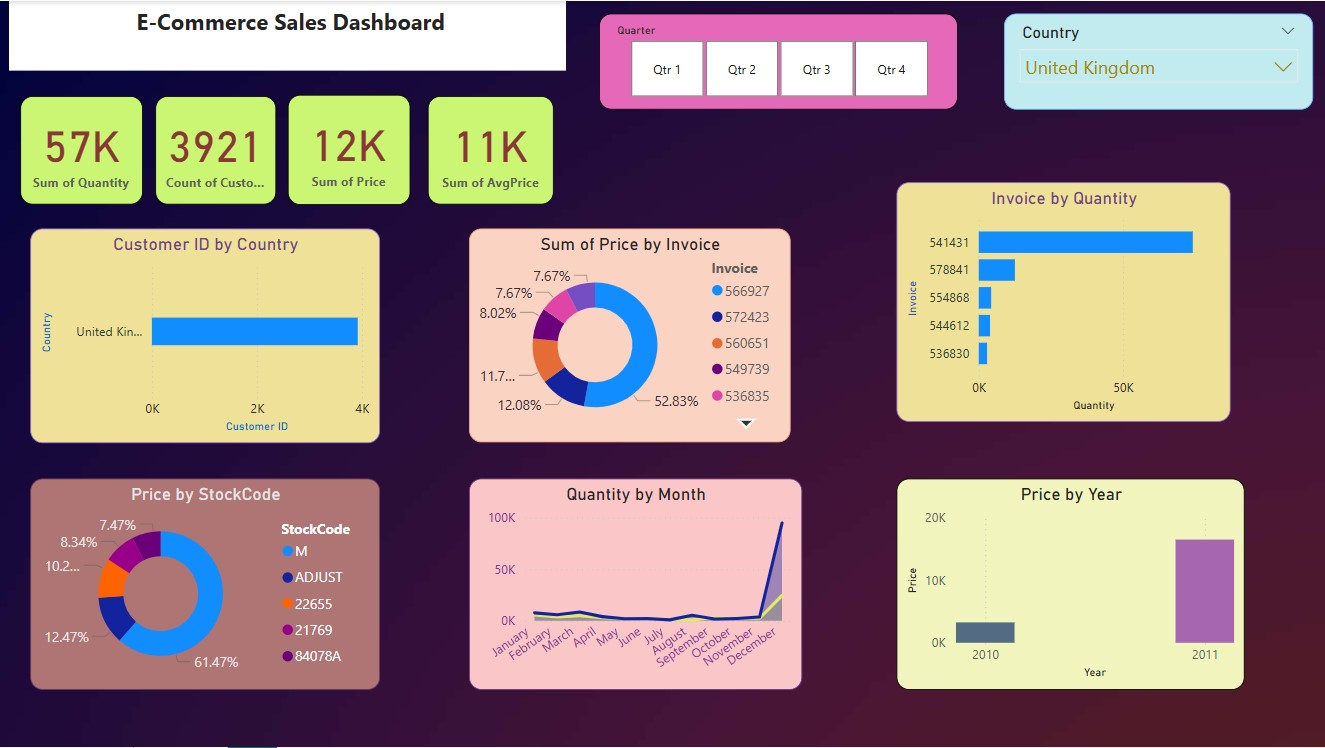

What the dashboard file says about the page in this screenshot:
{"tool":"powerbi","page":{"name":"Page 1","canvas":[1280,720],"ordinal":0},"visuals":[{"type":"textbox","box":[9.6,0,537.9,67.2],"z":0},{"type":"areaChart","title":"Quantity by Month","fields":{"Category":["Year 2009-2010.InvoiceDate.Variation.Date Hierarchy.Month"],"Y":["Sum(Year 2009-2010.Quantity)","Sum(Year 2010-2011.Quantity)"]},"box":[453.8,461.2,321.2,203.8],"z":1000},{"type":"clusteredBarChart","title":"Customer ID by Country","fields":{"Y":["CountNonNull(Year 2010-2011.Customer ID)"],"Category":["Year 2010-2011.Country"]},"box":[30,220,337.5,207.5],"z":2000},{"type":"donutChart","title":"Price by StockCode","fields":{"Category":["Year 2009-2010.StockCode"],"Y":["Sum(Year 2009-2010.Price)"]},"box":[30,461.2,337.5,203.8],"z":3000},{"type":"donutChart","fields":{"Category":["Year 2010-2011.Invoice"],"Y":["Sum(Year 2010-2011.Price)"]},"box":[453.8,220,310,206.2],"z":4000},{"type":"slicer","fields":{"Values":["Year 2010-2011.Country"]},"box":[970,12.5,298.8,92.5],"z":5000},{"type":"card","fields":{"Values":["Sum(Year 2009-2010.Quantity)"]},"box":[20.5,91.7,118.2,105],"z":6000},{"type":"card","fields":{"Values":["Sum(Year 2009-2010.Price)"]},"box":[278.7,90.5,118.2,106.2],"z":7000},{"type":"card","fields":{"Values":["CountNonNull(Year 2010-2011.Customer ID)"]},"box":[150.8,91.7,117,105],"z":8000},{"type":"card","fields":{"Values":["Sum(Year 2010-2011.AvgPrice)"]},"box":[413.8,91.7,121.9,105],"z":9000},{"type":"clusteredBarChart","title":"Invoice by Quantity","fields":{"Category":["Year 2010-2011.Invoice"],"Y":["Sum(Year 2010-2011.Quantity)"]},"box":[866.2,175,322.5,231.2],"z":10000},{"type":"slicer","fields":{"Values":["Year 2009-2010.InvoiceDate.Variation.Date Hierarchy.Quarter"]},"box":[578.8,12.5,346.2,92.5],"z":11000},{"type":"columnChart","title":"Price by Year","fields":{"Category":["Year 2010-2011.InvoiceDate.Variation.Date Hierarchy.Year"],"Y":["Sum(Year 2010-2011.Price)"]},"box":[866.2,461.2,336.2,203.8],"z":12000}]}

Visuals, with their boxes in screenshot pixels (x1, y1, x2, y2), scaled from the page's 1280x720 canvas onto the 1325x748 screenshot:
textbox: x1=10, y1=0, x2=567, y2=70
"Quantity by Month" areaChart: x1=470, y1=479, x2=802, y2=691
"Customer ID by Country" clusteredBarChart: x1=31, y1=229, x2=380, y2=444
"Price by StockCode" donutChart: x1=31, y1=479, x2=380, y2=691
donutChart - Year 2010-2011.Invoice x Sum(Year 2010-2011.Price): x1=470, y1=229, x2=791, y2=443
slicer - Year 2010-2011.Country: x1=1004, y1=13, x2=1313, y2=109
card - Sum(Year 2009-2010.Quantity): x1=21, y1=95, x2=144, y2=204
card - Sum(Year 2009-2010.Price): x1=288, y1=94, x2=411, y2=204
card - CountNonNull(Year 2010-2011.Customer ID): x1=156, y1=95, x2=277, y2=204
card - Sum(Year 2010-2011.AvgPrice): x1=428, y1=95, x2=555, y2=204
"Invoice by Quantity" clusteredBarChart: x1=897, y1=182, x2=1230, y2=422
slicer - Year 2009-2010.InvoiceDate.Variation.Date Hierarchy.Quarter: x1=599, y1=13, x2=958, y2=109
"Price by Year" columnChart: x1=897, y1=479, x2=1245, y2=691
